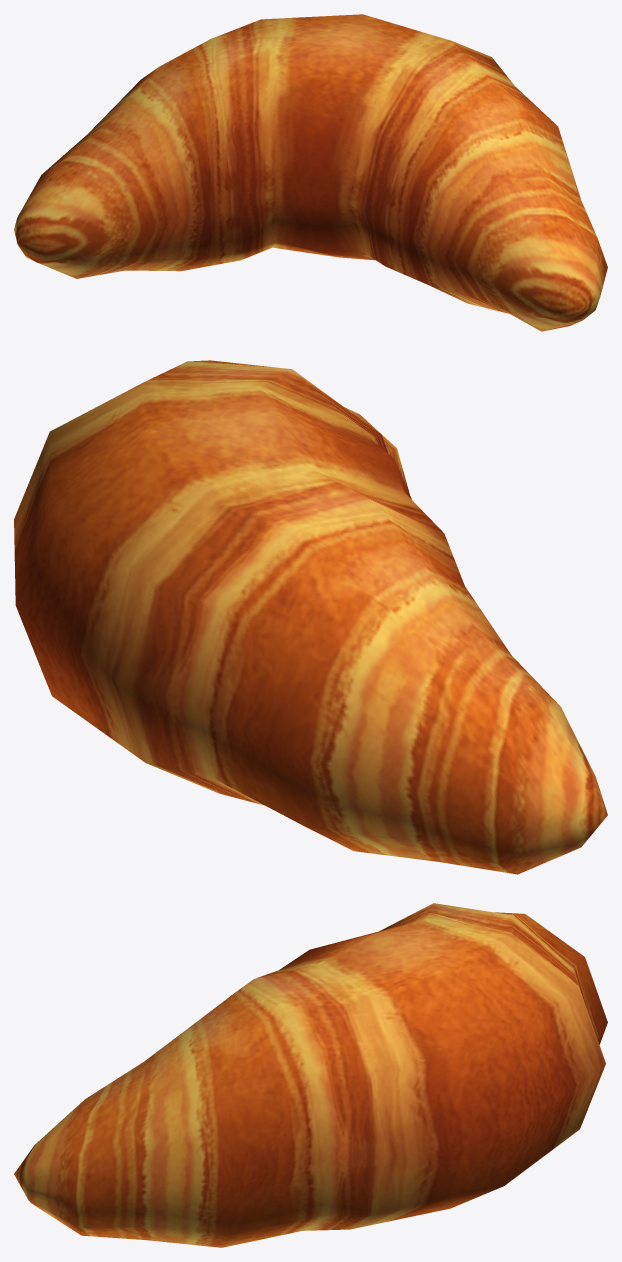
The model's file is 007-Croissant_02.FBX.
3 renders of one model, top to bottom at view 1: azimuth 30°, elevation 25°; view 2: azimuth 150°, elevation 25°; view 3: azimuth 270°, elevation 25°, orthographic. The views are drawn at different scales.
Parts seen in each view (by area): view 1: 007-Croissant_02; view 2: 007-Croissant_02; view 3: 007-Croissant_02.
Part boxes in pixels (bbox=[...]): 007-Croissant_02: bbox=[14, 14, 607, 331]; 007-Croissant_02: bbox=[14, 360, 607, 874]; 007-Croissant_02: bbox=[14, 903, 607, 1247].
Bounding box in the file's own units: 14.86 × 6.92 × 14.86.
